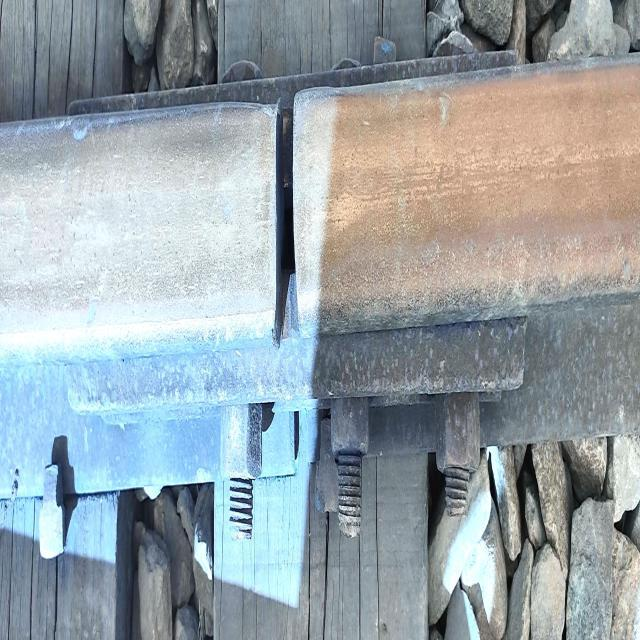Defective Joint: (66, 30, 525, 536)
Good Fasteners: (39, 465, 64, 559)
